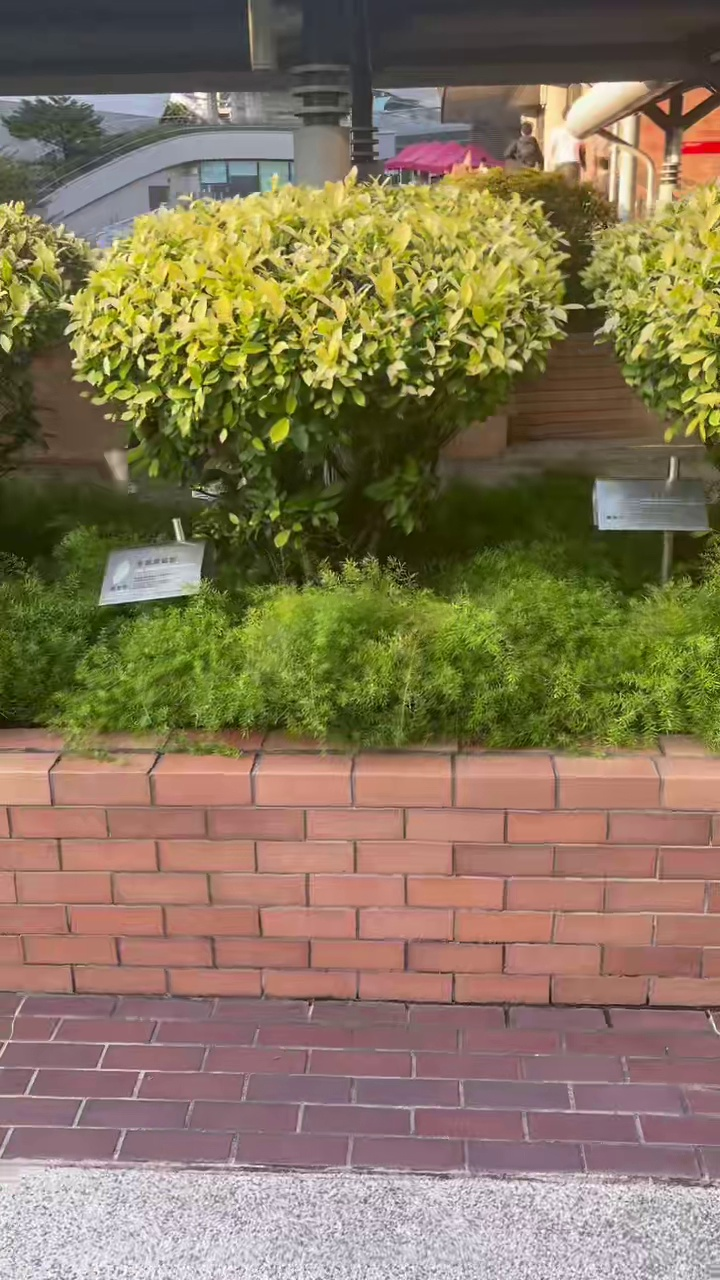Golden-leaves Fig: (67, 173, 565, 554)
